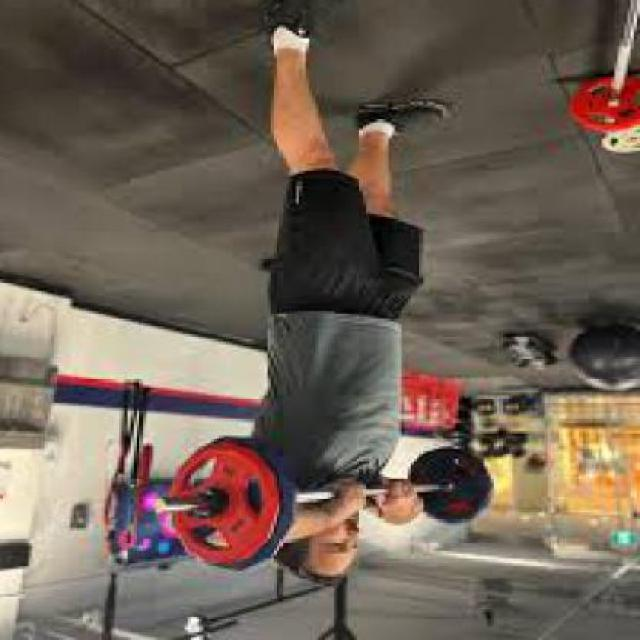Barbell: (136, 488, 166, 516)
